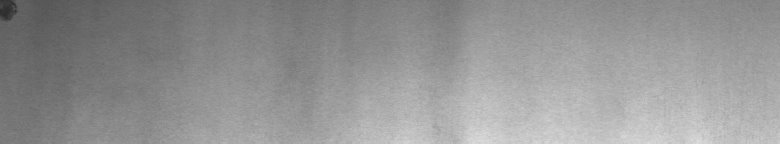fi: (4, 4, 23, 28)
